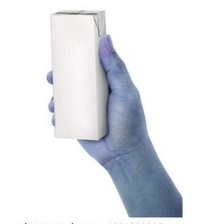carton: (45, 5, 120, 149)
